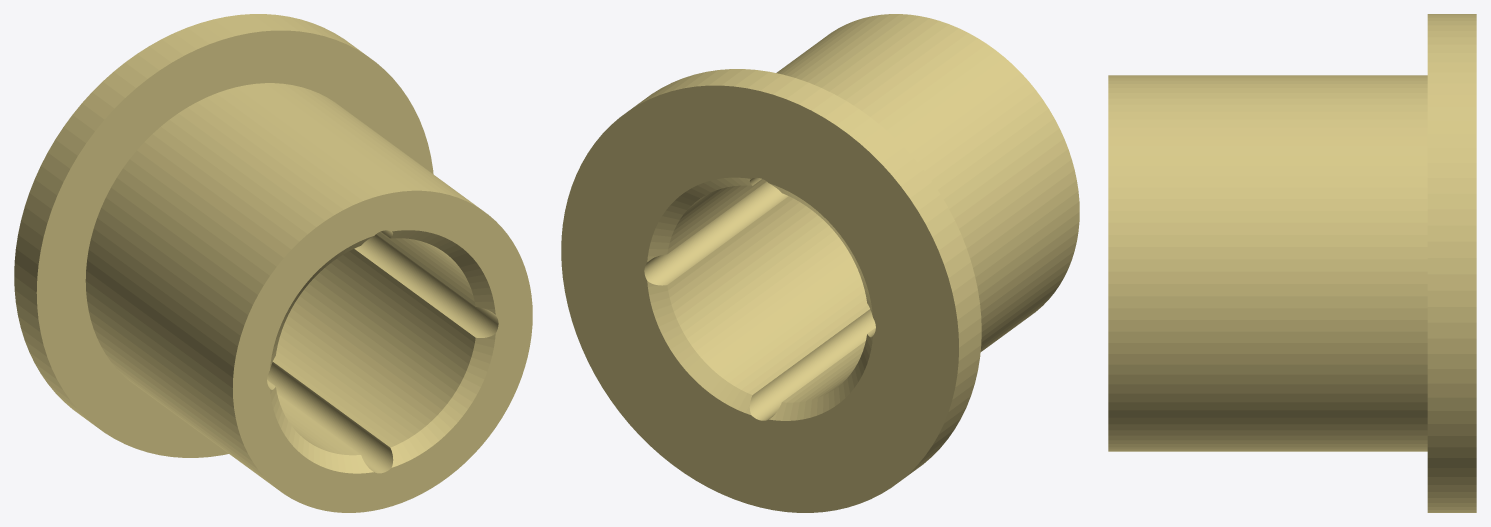
Rendered from plain_bushing_demo.glb.
The picture shows the model from 3 angles, left to right: view 1: azimuth 30°, elevation 25°; view 2: azimuth 150°, elevation 25°; view 3: azimuth 270°, elevation 25°; orthographic projection. The views are drawn at different scales.
Visible parts, largest first — view 1: flanged_plain_bushing; view 2: flanged_plain_bushing; view 3: flanged_plain_bushing.
Part boxes in pixels (bbox=[...]): flanged_plain_bushing: bbox=[14, 14, 532, 512]; flanged_plain_bushing: bbox=[561, 14, 1079, 512]; flanged_plain_bushing: bbox=[1108, 14, 1476, 512].
Bounding box in the file's own units: 16.25 × 16.25 × 12.
